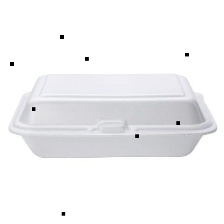foam_box: (5, 66, 220, 163)
